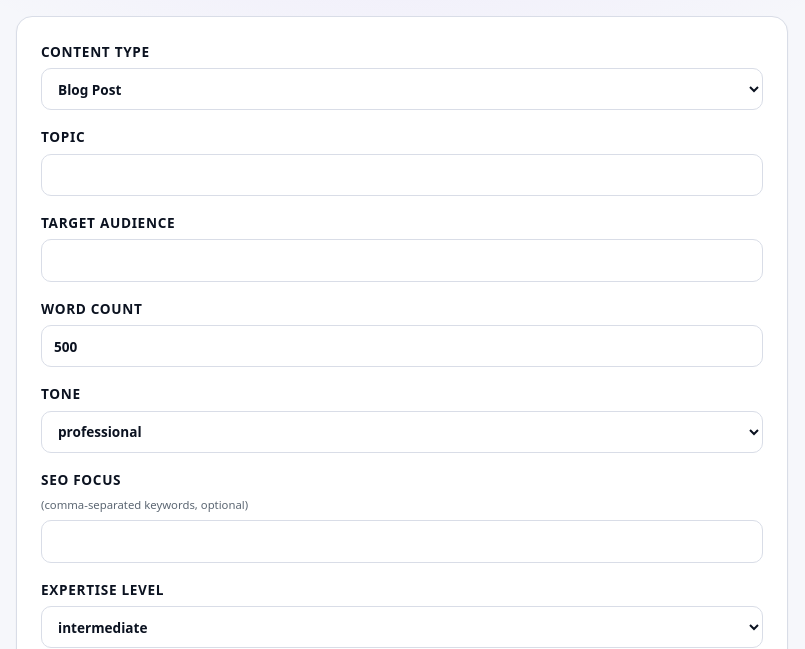
App › renders warnings returned by the API
Switch to email
Select "Email" in the dropdown labelled "Content Type" at (402, 89), box top-left (41, 68), bottom-right (763, 110)
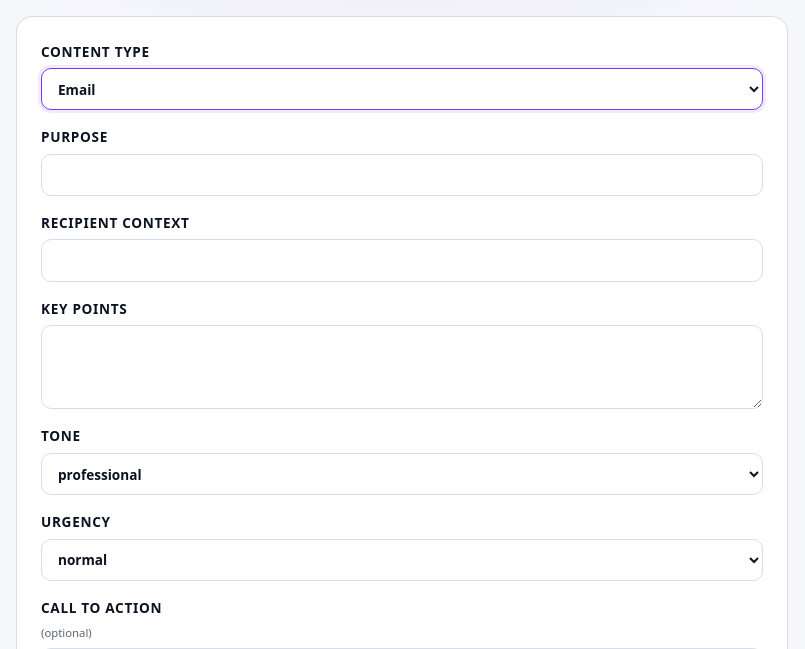
Type "test" into the field labelled "Purpose".
click(402, 175); type("test")  # box top-left (41, 154), bottom-right (763, 196)
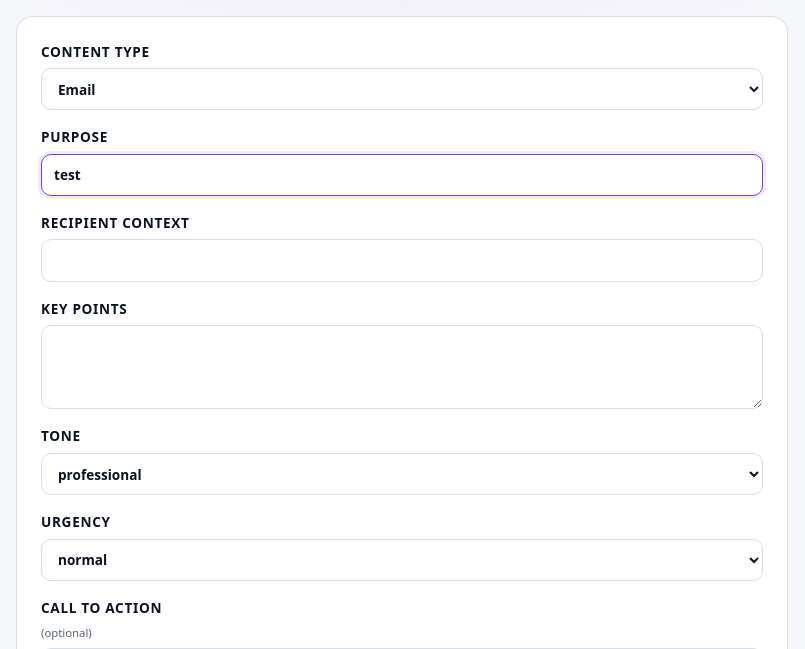
Type "someone" into the field labelled "Recipient Context".
click(402, 261); type("someone")  # box top-left (41, 239), bottom-right (763, 282)
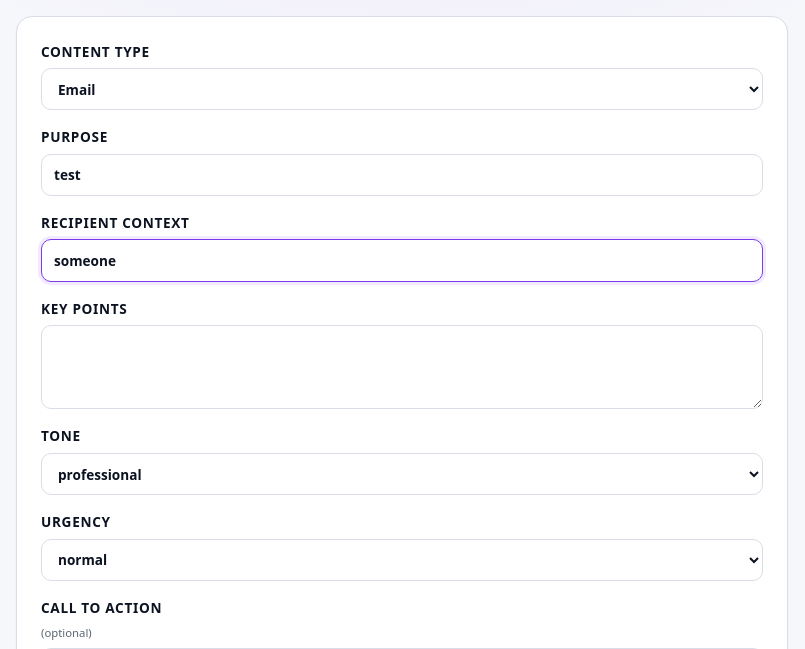
Type "one, two" into the text box labelled "Key Points".
click(402, 367); type("one, two")  # box top-left (41, 325), bottom-right (763, 410)
(page scrolled)
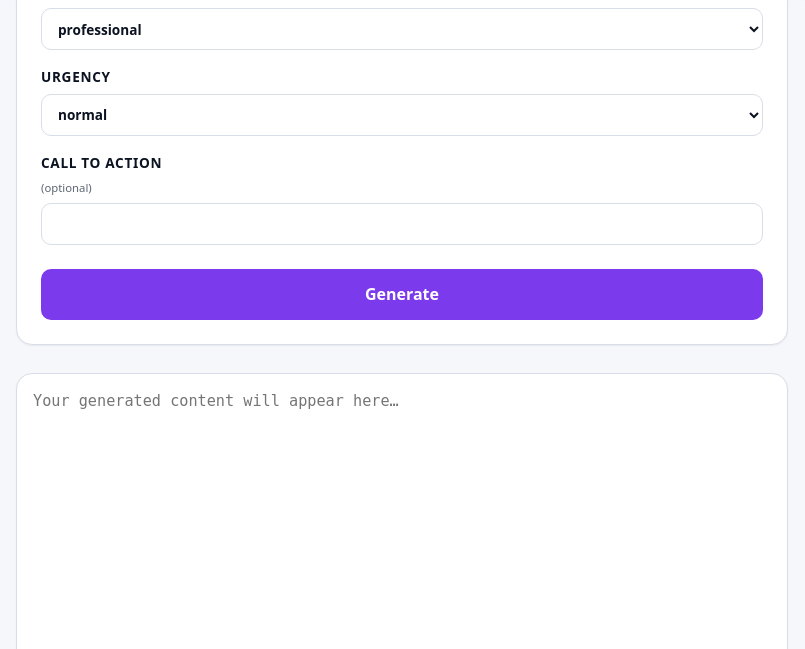
Click the button "Generate".
click(402, 295)  # box top-left (41, 269), bottom-right (763, 320)
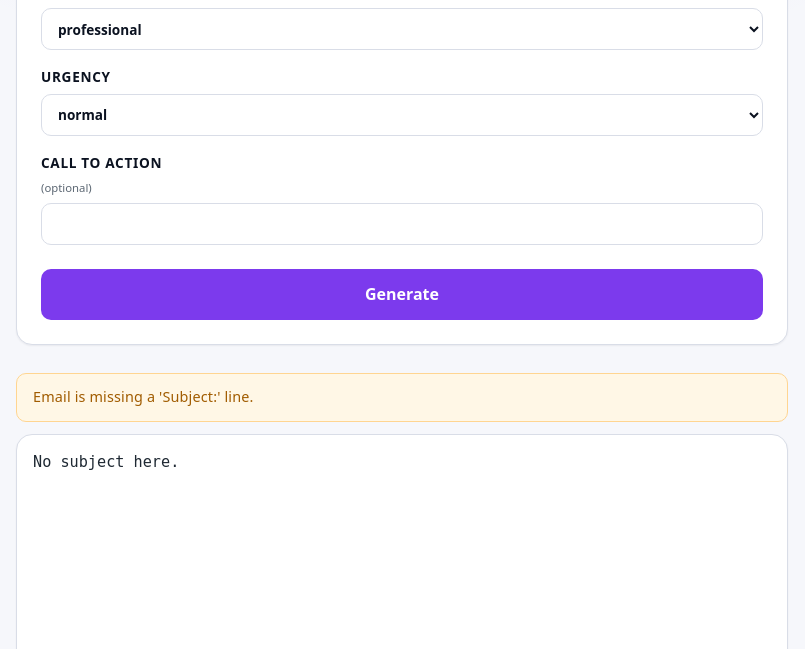
Check: the list item "Email is missing a 'Subject:' line." is shown, box top-left (33, 387), bottom-right (254, 406)
